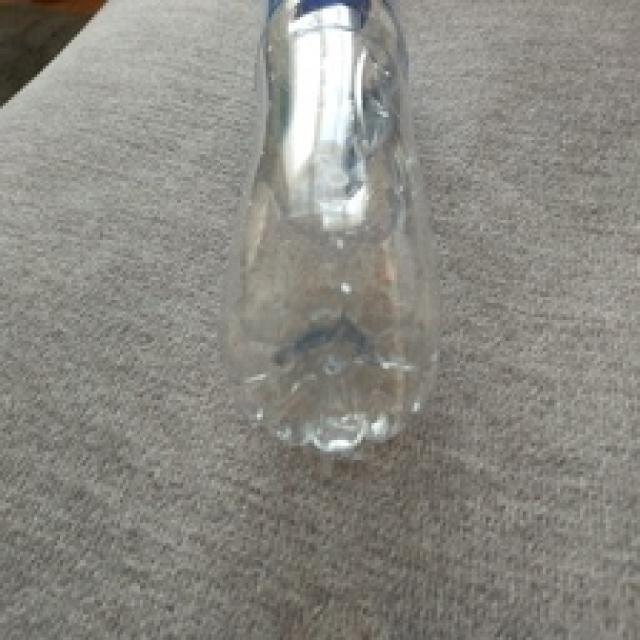Plastic: (224, 0, 440, 457)
